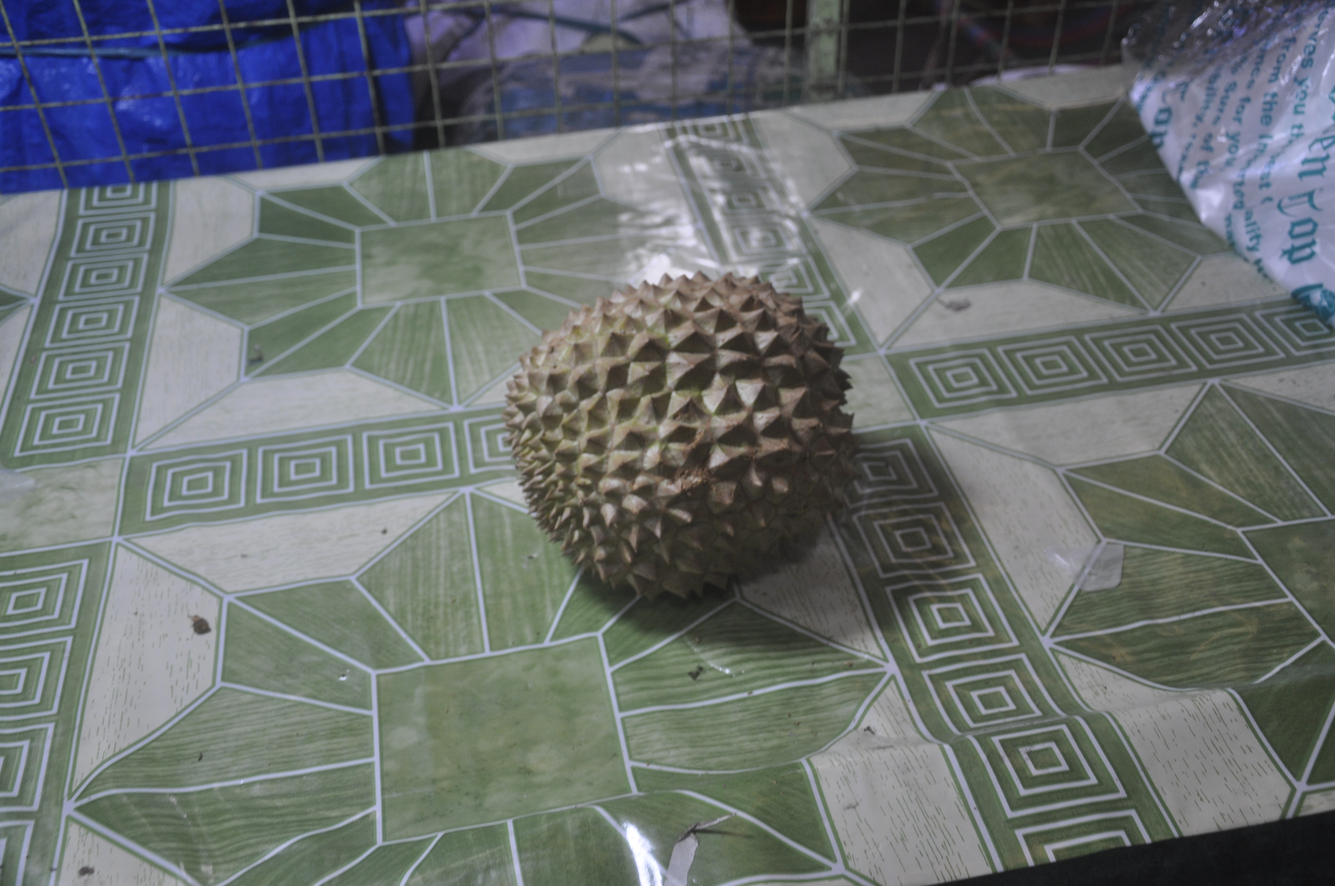mature: (505, 273, 858, 598)
